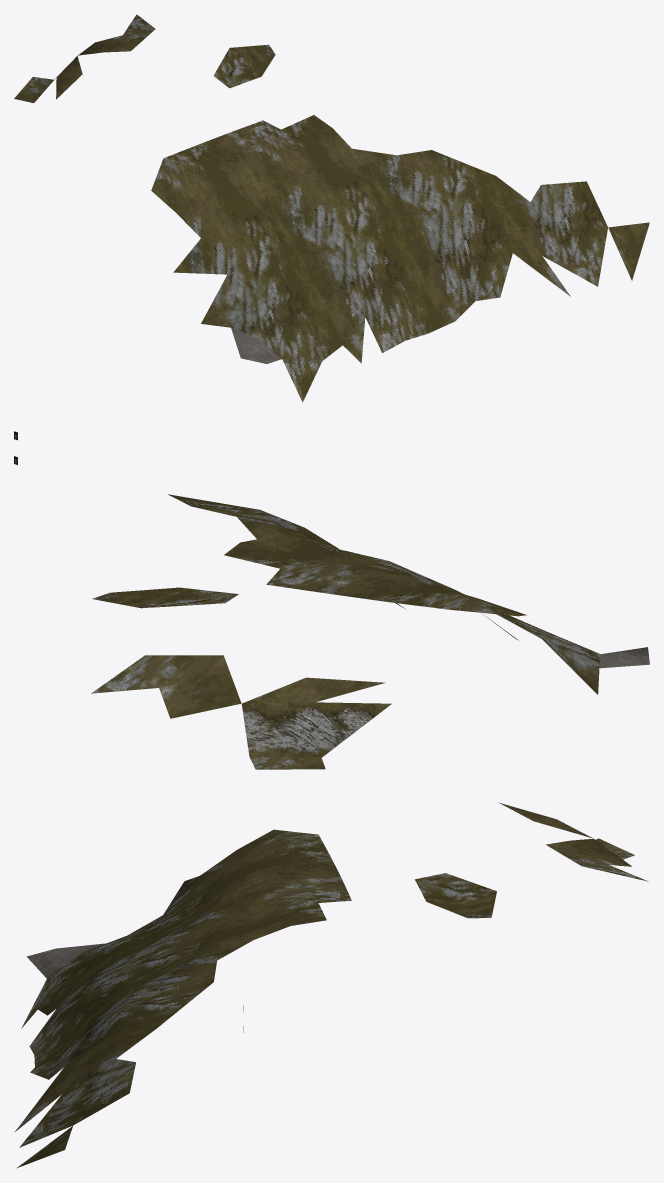
Rendered from world_camden_10_-6.gltf.
The picture shows the model from 3 angles, top to bottom: view 1: azimuth 30°, elevation 25°; view 2: azimuth 150°, elevation 25°; view 3: azimuth 270°, elevation 25°; orthographic projection. The views are drawn at different scales.
Size of the model in its own units: 257 by 103 by 278.
Materials: 4 (4 with a texture image).
